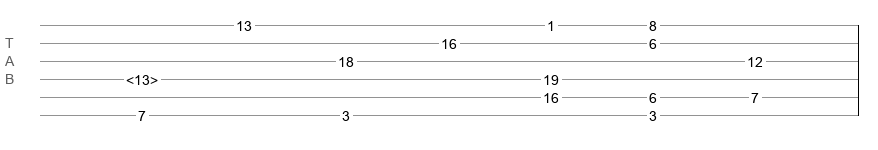1: (547, 18, 555, 28)
12: (747, 54, 763, 64)
13: (236, 18, 252, 28)
16: (441, 36, 457, 46), (543, 90, 559, 100)
18: (338, 54, 354, 64)
19: (543, 72, 559, 82)
3: (342, 108, 350, 118), (649, 108, 657, 118)
6: (649, 90, 657, 100), (649, 36, 657, 46)
7: (138, 108, 146, 118), (751, 90, 759, 100)
8: (649, 18, 657, 28)
harmonic: (126, 72, 158, 82)
